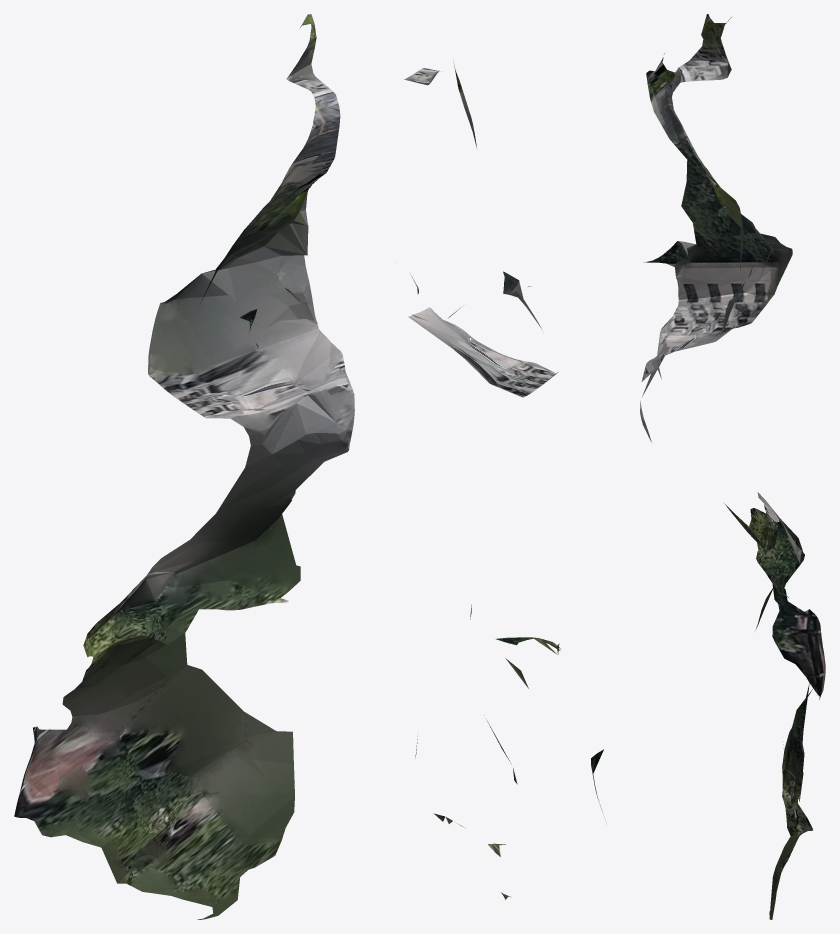
Rendered from Tile_+000_+001.glb.
3 renders of one model, left to right at view 1: azimuth 30°, elevation 25°; view 2: azimuth 150°, elevation 25°; view 3: azimuth 270°, elevation 25°, orthographic. The views are drawn at different scales.
Parts seen in each view (by area): view 1: Node; view 2: Node; view 3: Node.
Boxes of the visible parts, x1,y1,x2,y2 form: Node: (14, 14, 354, 919); Node: (396, 60, 603, 899); Node: (640, 14, 825, 919).
Bounding box in the file's own units: 41.4 × 139 × 24.72.
Materials: 1 (1 with a texture image).
